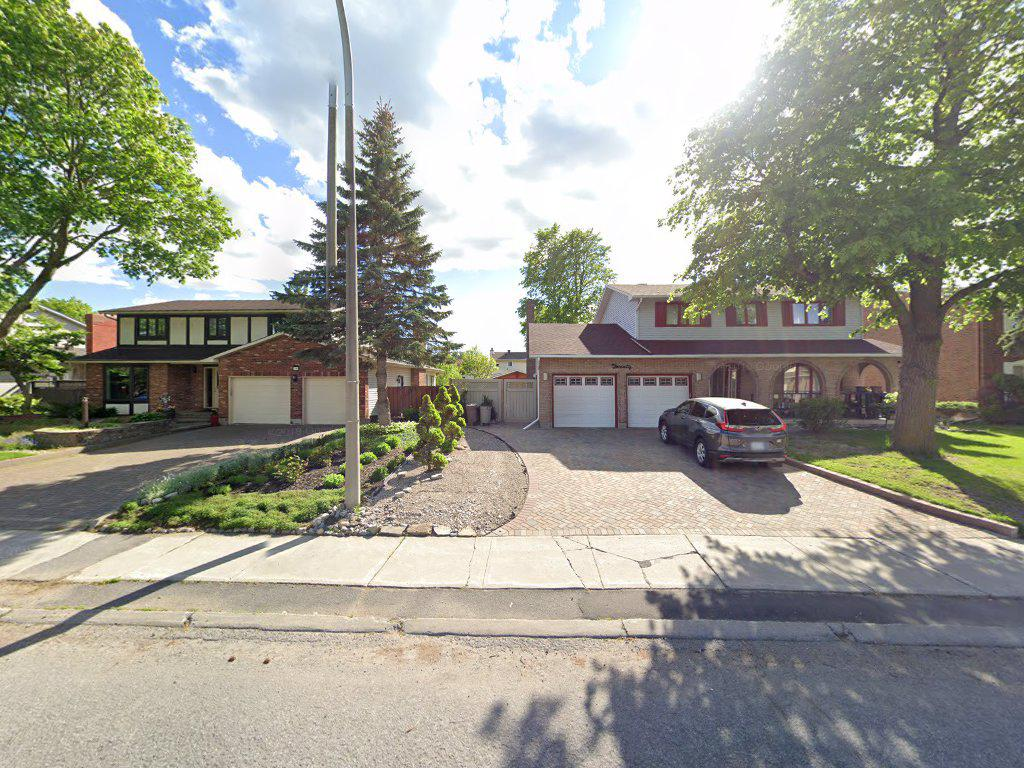trunk: (893, 254, 952, 477), (369, 353, 400, 433)
